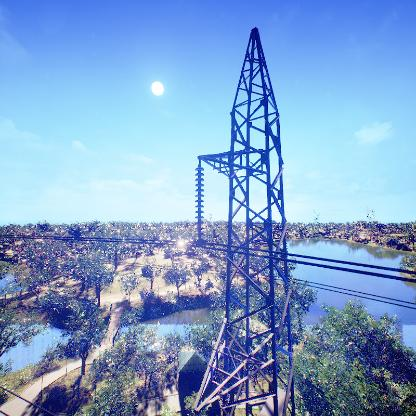insulator: (193, 166, 205, 242)
